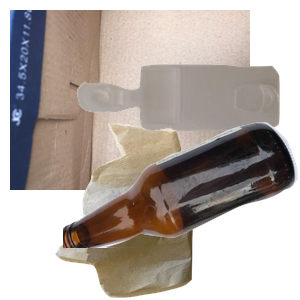cardboard: (10, 10, 250, 190)
glass: (63, 120, 300, 300)
plastic: (75, 62, 300, 186)
trash: (53, 121, 239, 300)
